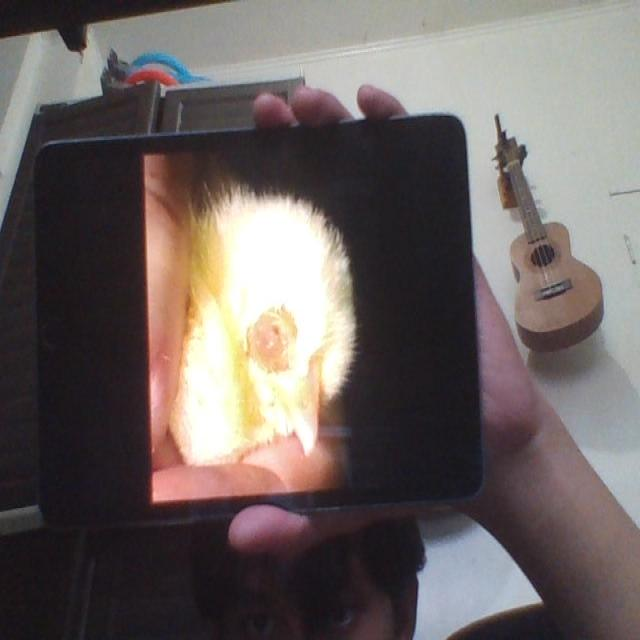Sick: (160, 192, 358, 468)
